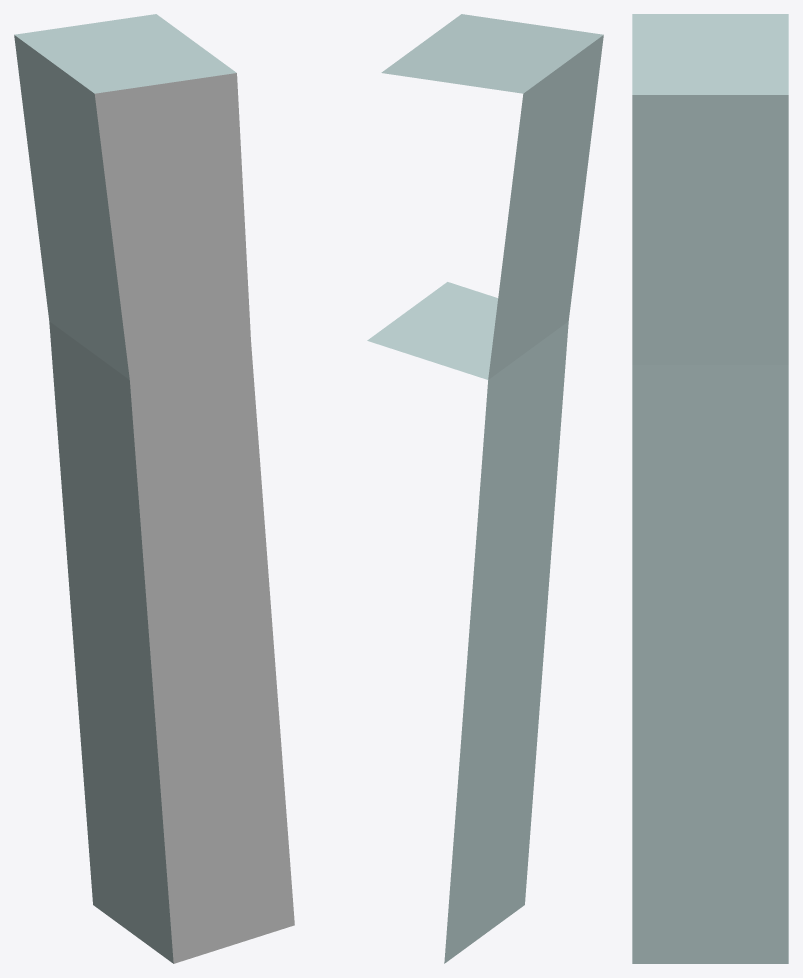
3 views of the same model, side by side, from view 1: azimuth 30°, elevation 25°; view 2: azimuth 150°, elevation 25°; view 3: azimuth 270°, elevation 25° (orthographic). The views are drawn at different scales.
Visible parts, largest first — view 1: 0_2_3_2_3_1_0_0; view 2: 0_2_3_2_3_1_0_0; view 3: 0_2_3_2_3_1_0_0.
Part boxes in pixels (box(x1,y1,x2,y2)): 0_2_3_2_3_1_0_0: box(14, 14, 294, 963); 0_2_3_2_3_1_0_0: box(367, 14, 603, 963); 0_2_3_2_3_1_0_0: box(632, 14, 788, 963).
Size of the model in its own units: 4.3 by 18.27 by 3.
